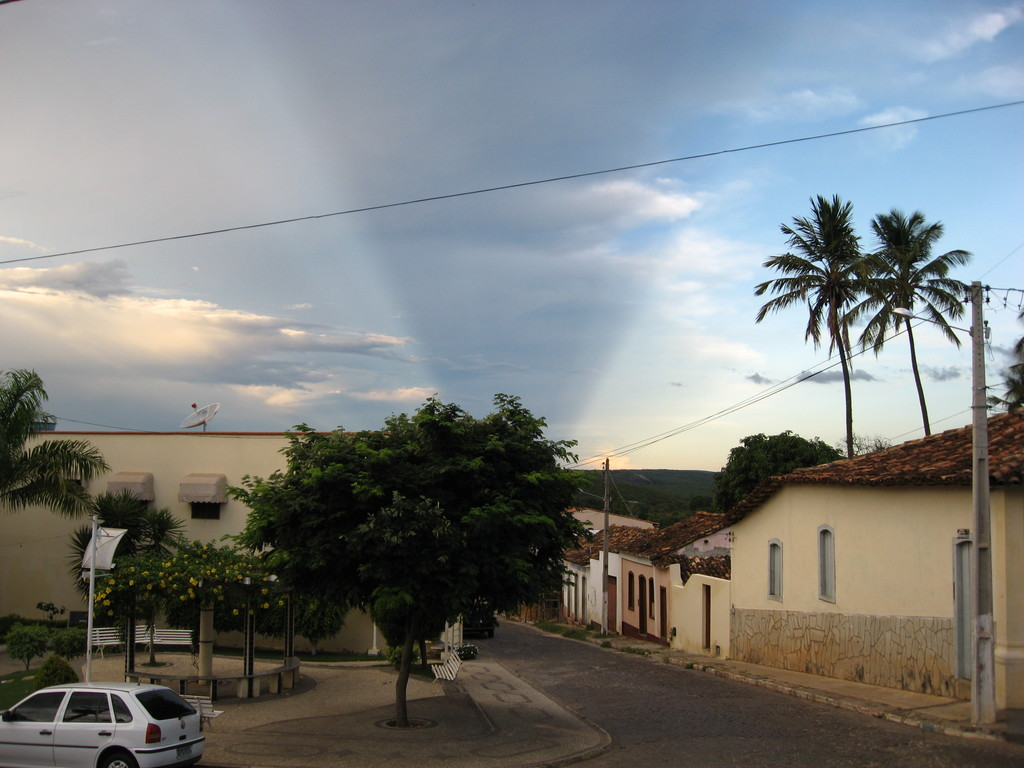mobil: (1, 687, 210, 768)
